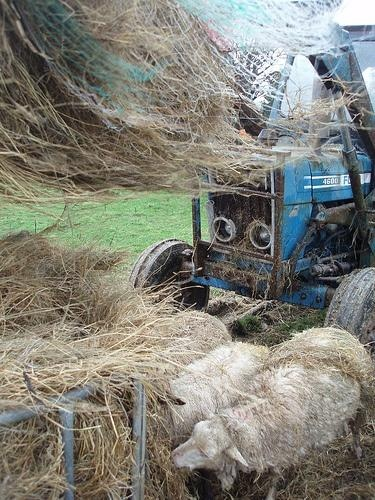sheep: (173, 329, 375, 500), (162, 341, 269, 441)
